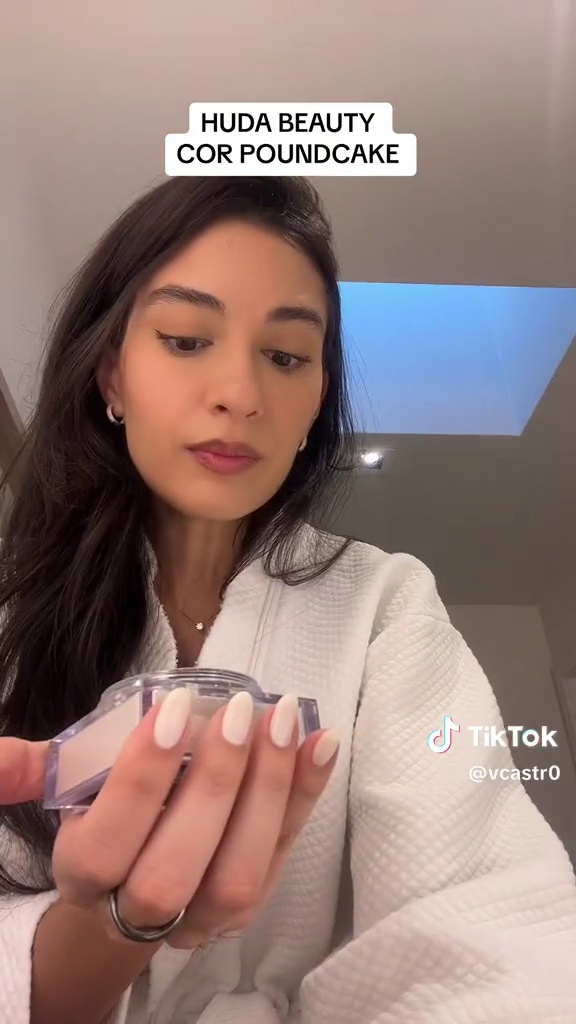train' :'yolo_data/train/images',: (33, 657, 331, 820)
